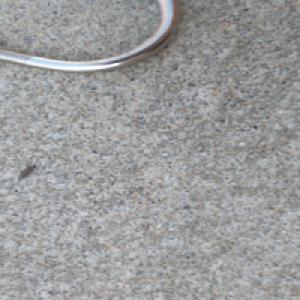ClampPart: (0, 0, 183, 74)
